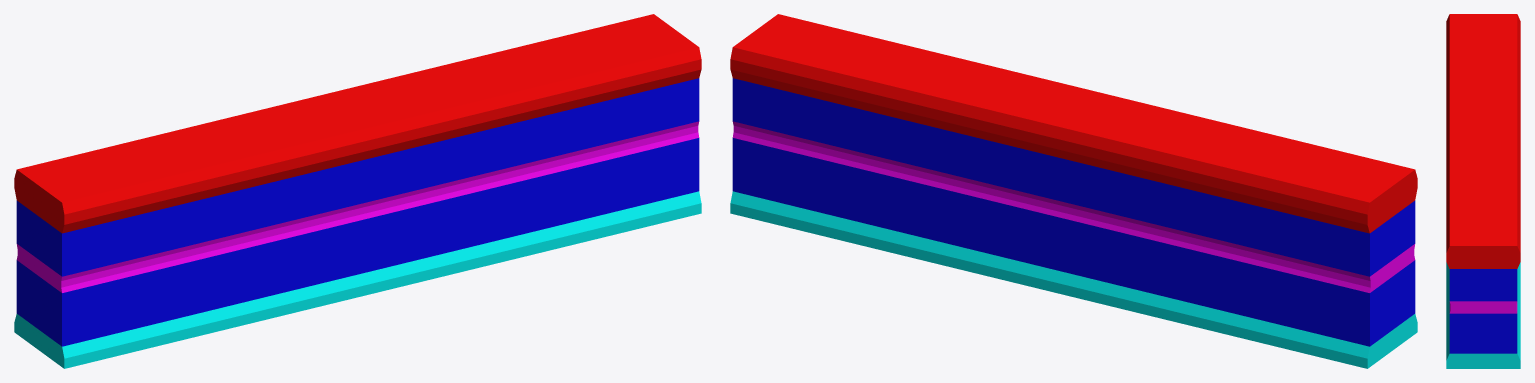
Rendered from WALL_LITTLE_MIDDLE.fbx.
The picture shows the model from 3 angles, left to right: view 1: azimuth 30°, elevation 25°; view 2: azimuth 150°, elevation 25°; view 3: azimuth 270°, elevation 25°; orthographic projection. The views are drawn at different scales.
Parts seen in each view (by area): view 1: WALL_LITTLE_MIDDLE; view 2: WALL_LITTLE_MIDDLE; view 3: WALL_LITTLE_MIDDLE.
Part boxes in pixels (x1,y1,x2,y2): WALL_LITTLE_MIDDLE: [14, 14, 701, 368]; WALL_LITTLE_MIDDLE: [730, 14, 1417, 368]; WALL_LITTLE_MIDDLE: [1446, 14, 1520, 368].
Bounding box in the file's own units: 405 × 100 × 55.
